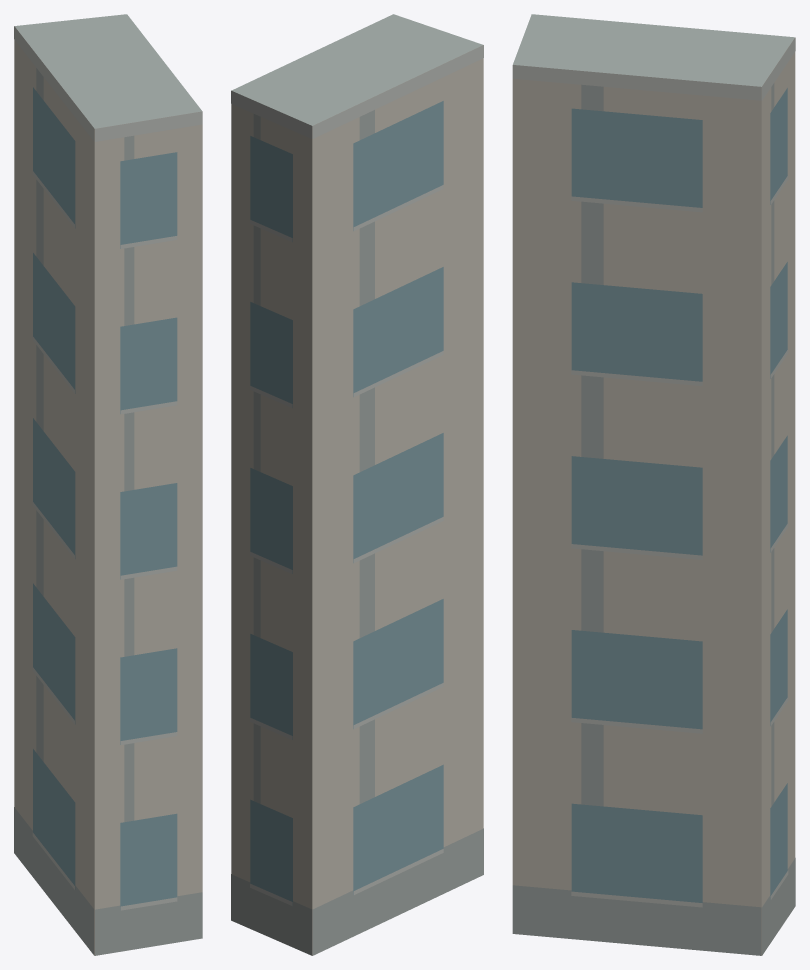
Rendered from survey-upis-32634711.glb.
The picture shows the model from 3 angles, left to right: view 1: azimuth 30°, elevation 25°; view 2: azimuth 150°, elevation 25°; view 3: azimuth 270°, elevation 25°; orthographic projection. The views are drawn at different scales.
Parts seen in each view (by area): view 1: survey-upis-32634711.tmp; view 2: survey-upis-32634711.tmp; view 3: survey-upis-32634711.tmp.
Part boxes in pixels (x1,y1,x2,y2): survey-upis-32634711.tmp: [14, 14, 202, 955]; survey-upis-32634711.tmp: [231, 14, 483, 955]; survey-upis-32634711.tmp: [512, 14, 795, 955].
Bounding box in the file's own units: 2.75 × 15.25 × 4.51.
